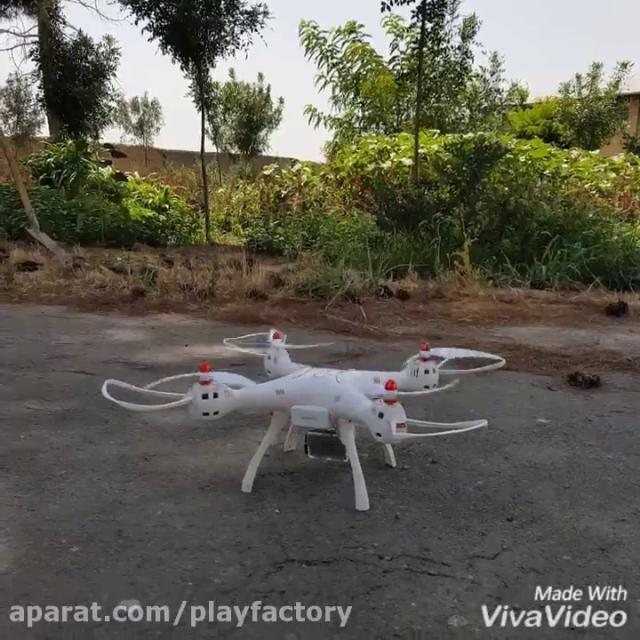drone: (95, 330, 508, 506)
